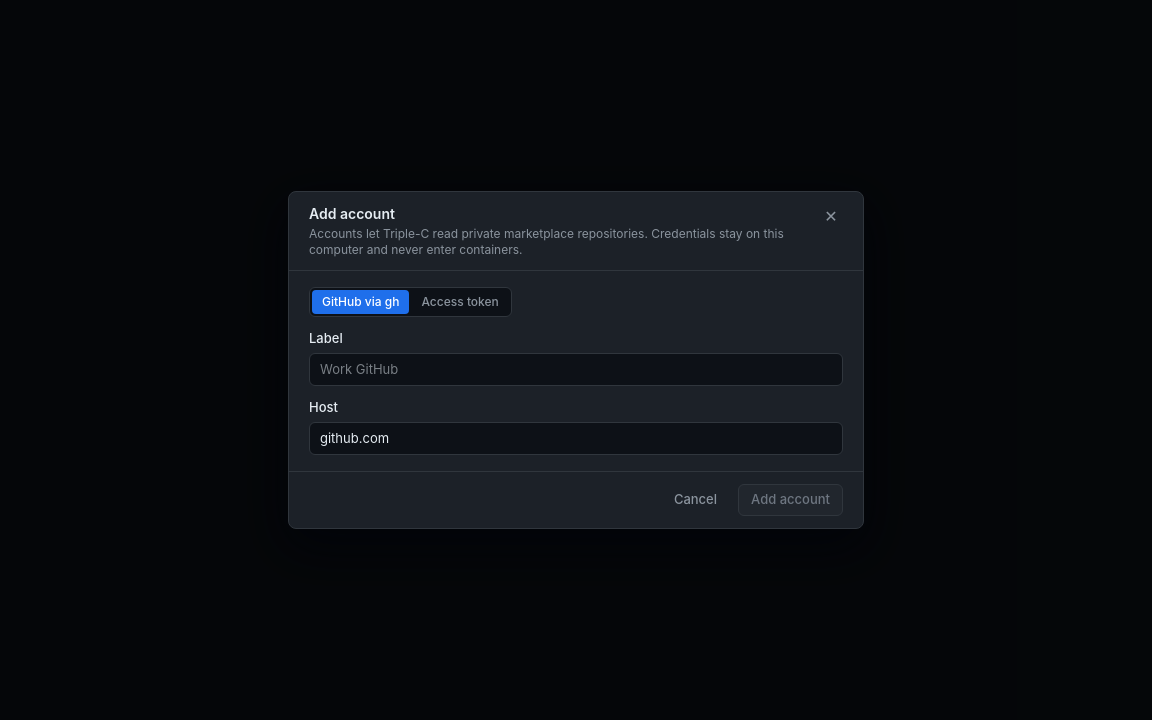
Test: AddAccountModal › shows a validation error from the backend
The width and height of the screenshot is (1152, 720).
Click the radio button labelled "Access token" at {"x": 460, "y": 302}, box [412,290,509,314]
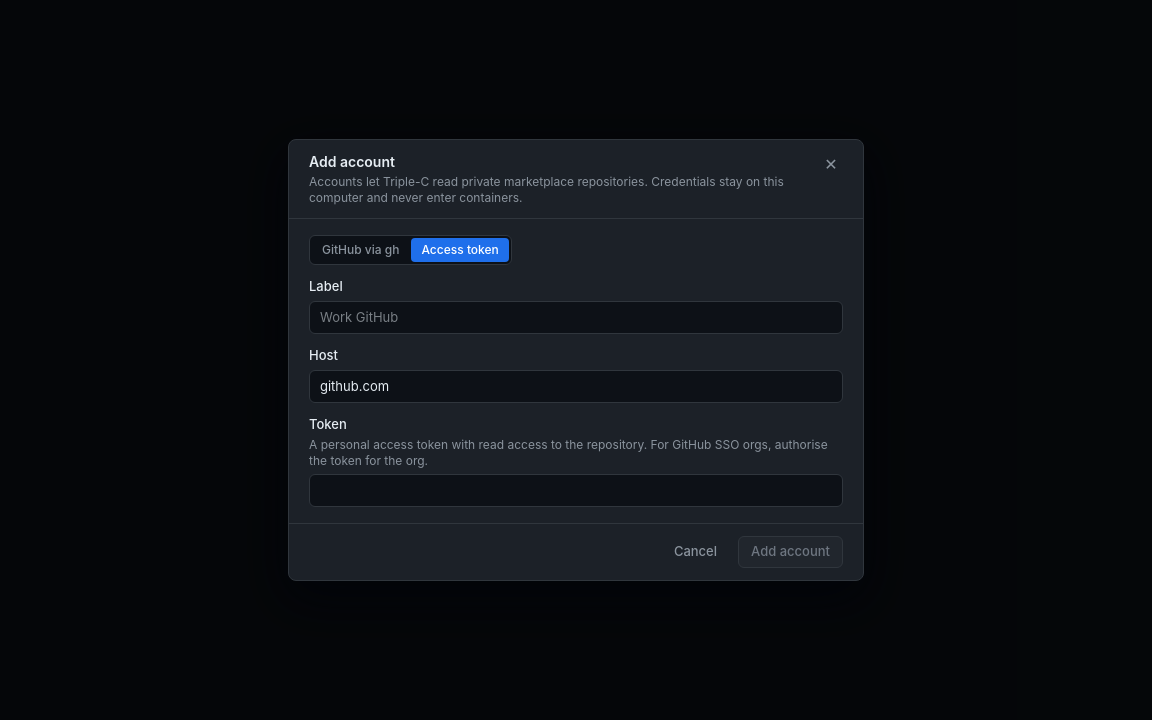
Type "G" into the field labelled "Label" at {"x": 576, "y": 317}, box [309,300,843,334]
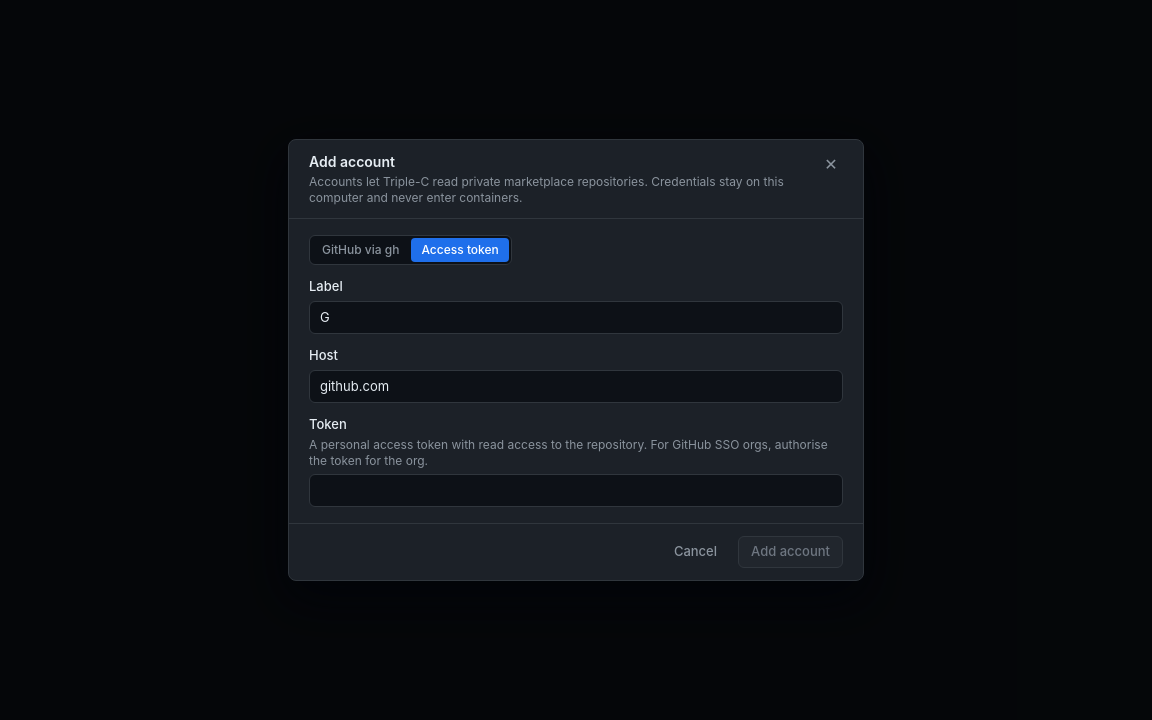
Replace the text in the field labelled "Host" with "repo.anhonesthost.net" at {"x": 576, "y": 386}, box [309,370,843,403]
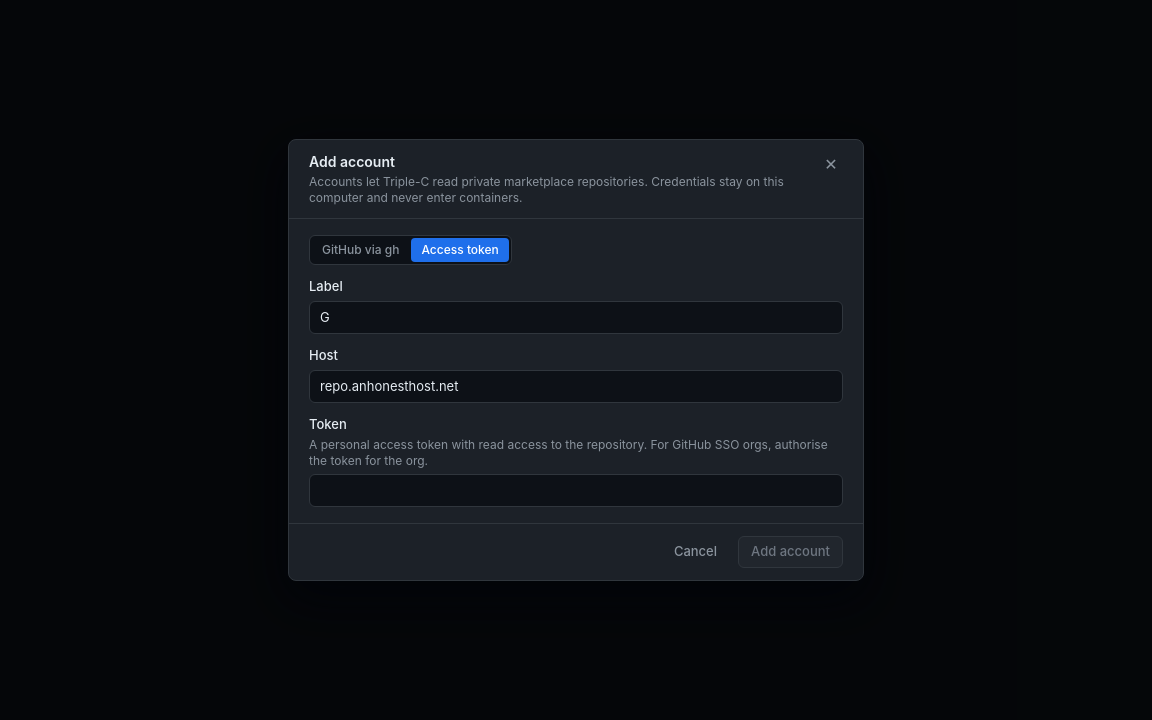
Type "test-token-not-real" into the password field labelled "Token" at {"x": 576, "y": 490}, box [309,474,843,507]
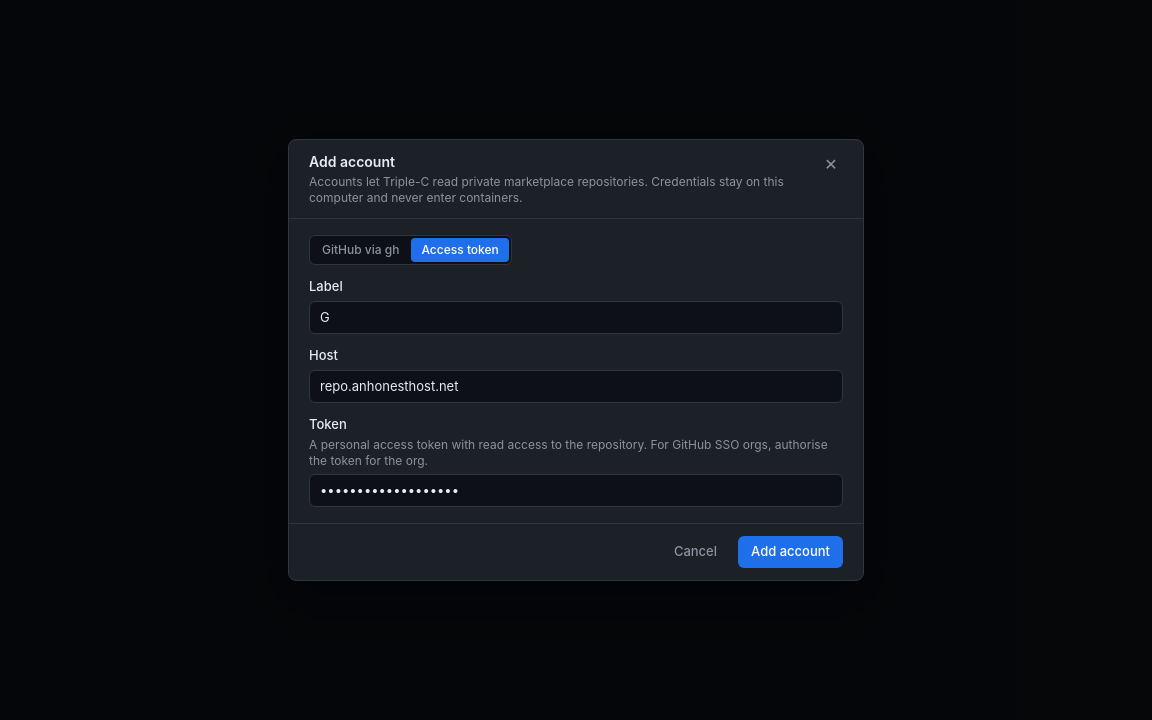
Click the button "Add account" at {"x": 790, "y": 552}, box [738,536,843,568]
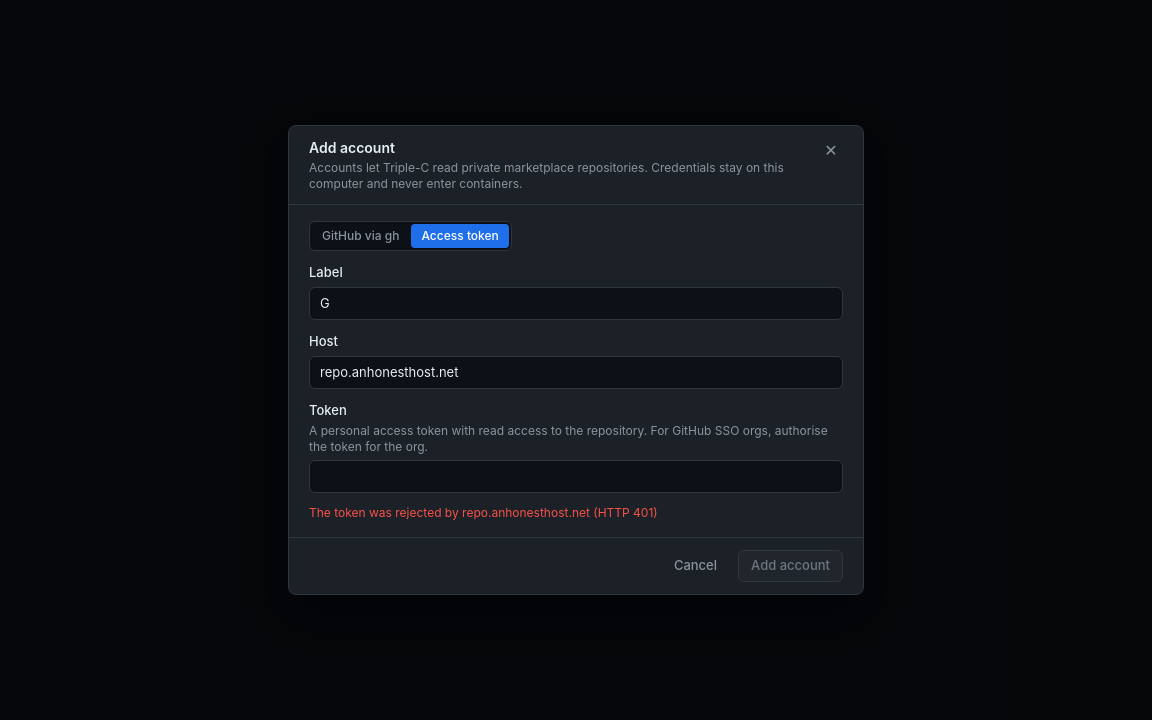
Expected: the text "The token was rejected by repo.anhonesthost.net (HTTP 401)" is shown, [309,505,658,520]
